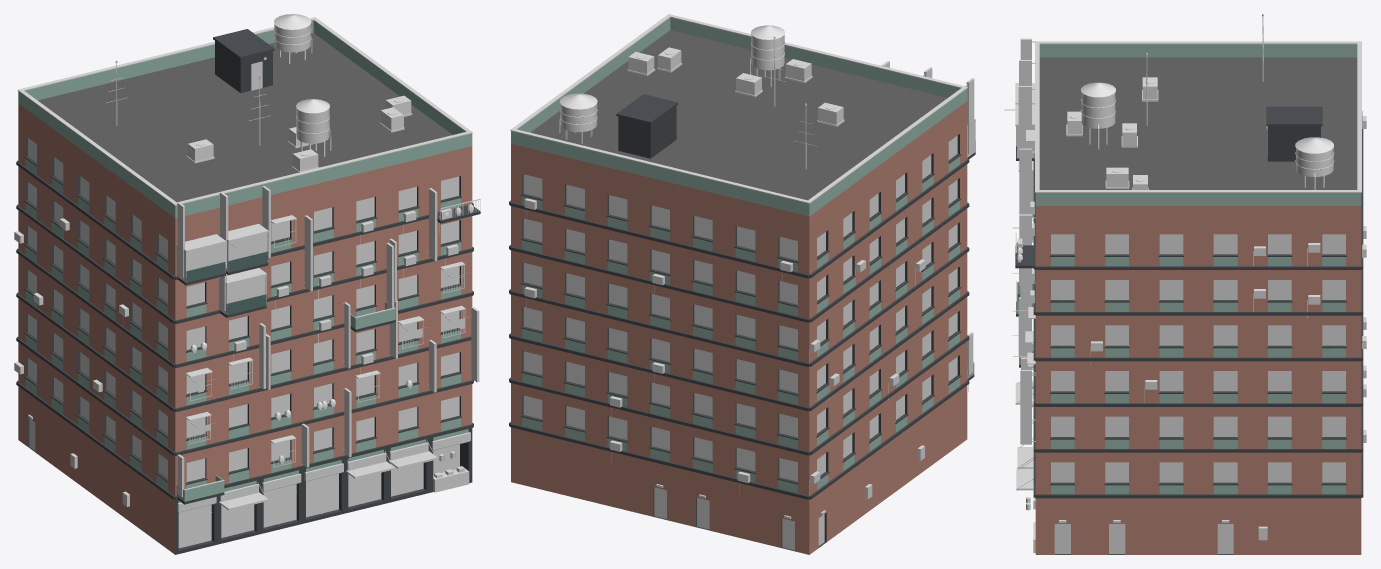
Rendered from Plaza_Block_00.fbx.
3 views of the same model, side by side, from view 1: azimuth 30°, elevation 25°; view 2: azimuth 150°, elevation 25°; view 3: azimuth 270°, elevation 25° (orthographic). The views are drawn at different scales.
Parts seen in each view (by area): view 1: Plaza_Block_00_LOD0; view 2: Plaza_Block_00_LOD0; view 3: Plaza_Block_00_LOD0.
Part boxes in pixels (x1,y1,x2,y2): Plaza_Block_00_LOD0: (14, 14, 480, 554); Plaza_Block_00_LOD0: (509, 14, 975, 554); Plaza_Block_00_LOD0: (1004, 14, 1366, 554).
Size of what is drawn, in the model's own units: 24.73 by 31.36 by 24.49.
